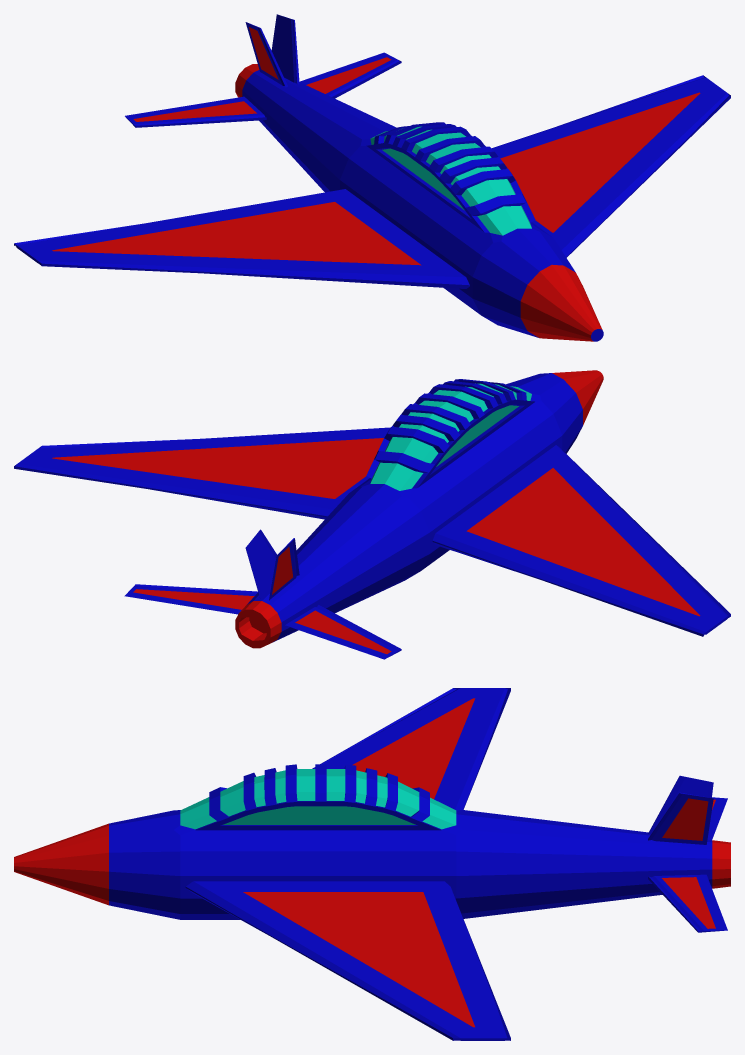
Rendered from plane.20cdb81a.obj.
3 renders of one model, top to bottom at view 1: azimuth 30°, elevation 25°; view 2: azimuth 150°, elevation 25°; view 3: azimuth 270°, elevation 25°, orthographic. The views are drawn at different scales.
Visible parts, largest first — view 1: Cylinder; view 2: Cylinder; view 3: Cylinder.
Part boxes in pixels (<box>): Cylinder: <box>14,14,730,341</box>; Cylinder: <box>14,370,730,659</box>; Cylinder: <box>14,688,730,1040</box>.
Bounding box in the file's own units: 14.95 × 2.79 × 12.94.
